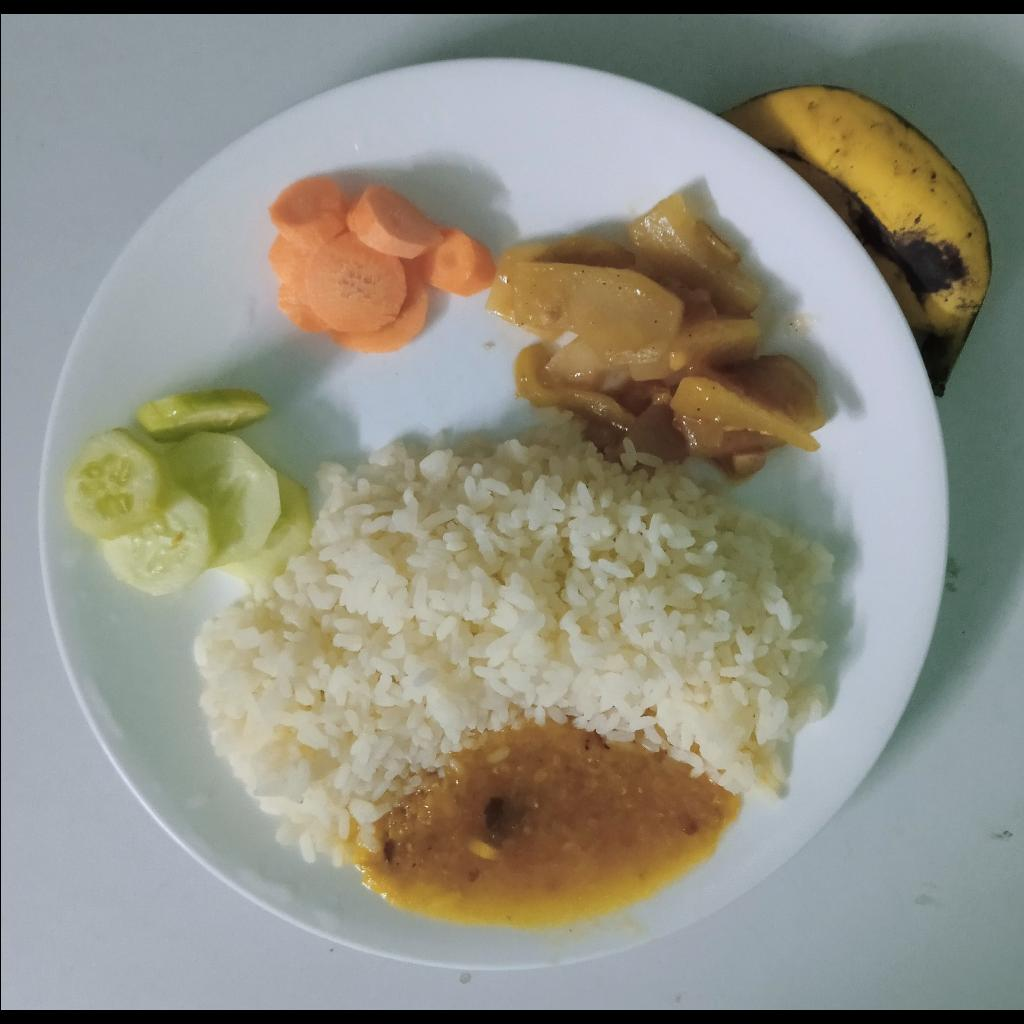banana: (716, 83, 990, 400)
carrot: (266, 179, 496, 354)
cucumber: (58, 391, 312, 599)
daal: (355, 729, 740, 919)
papaya: (488, 191, 826, 479)
rice: (193, 414, 833, 870)
